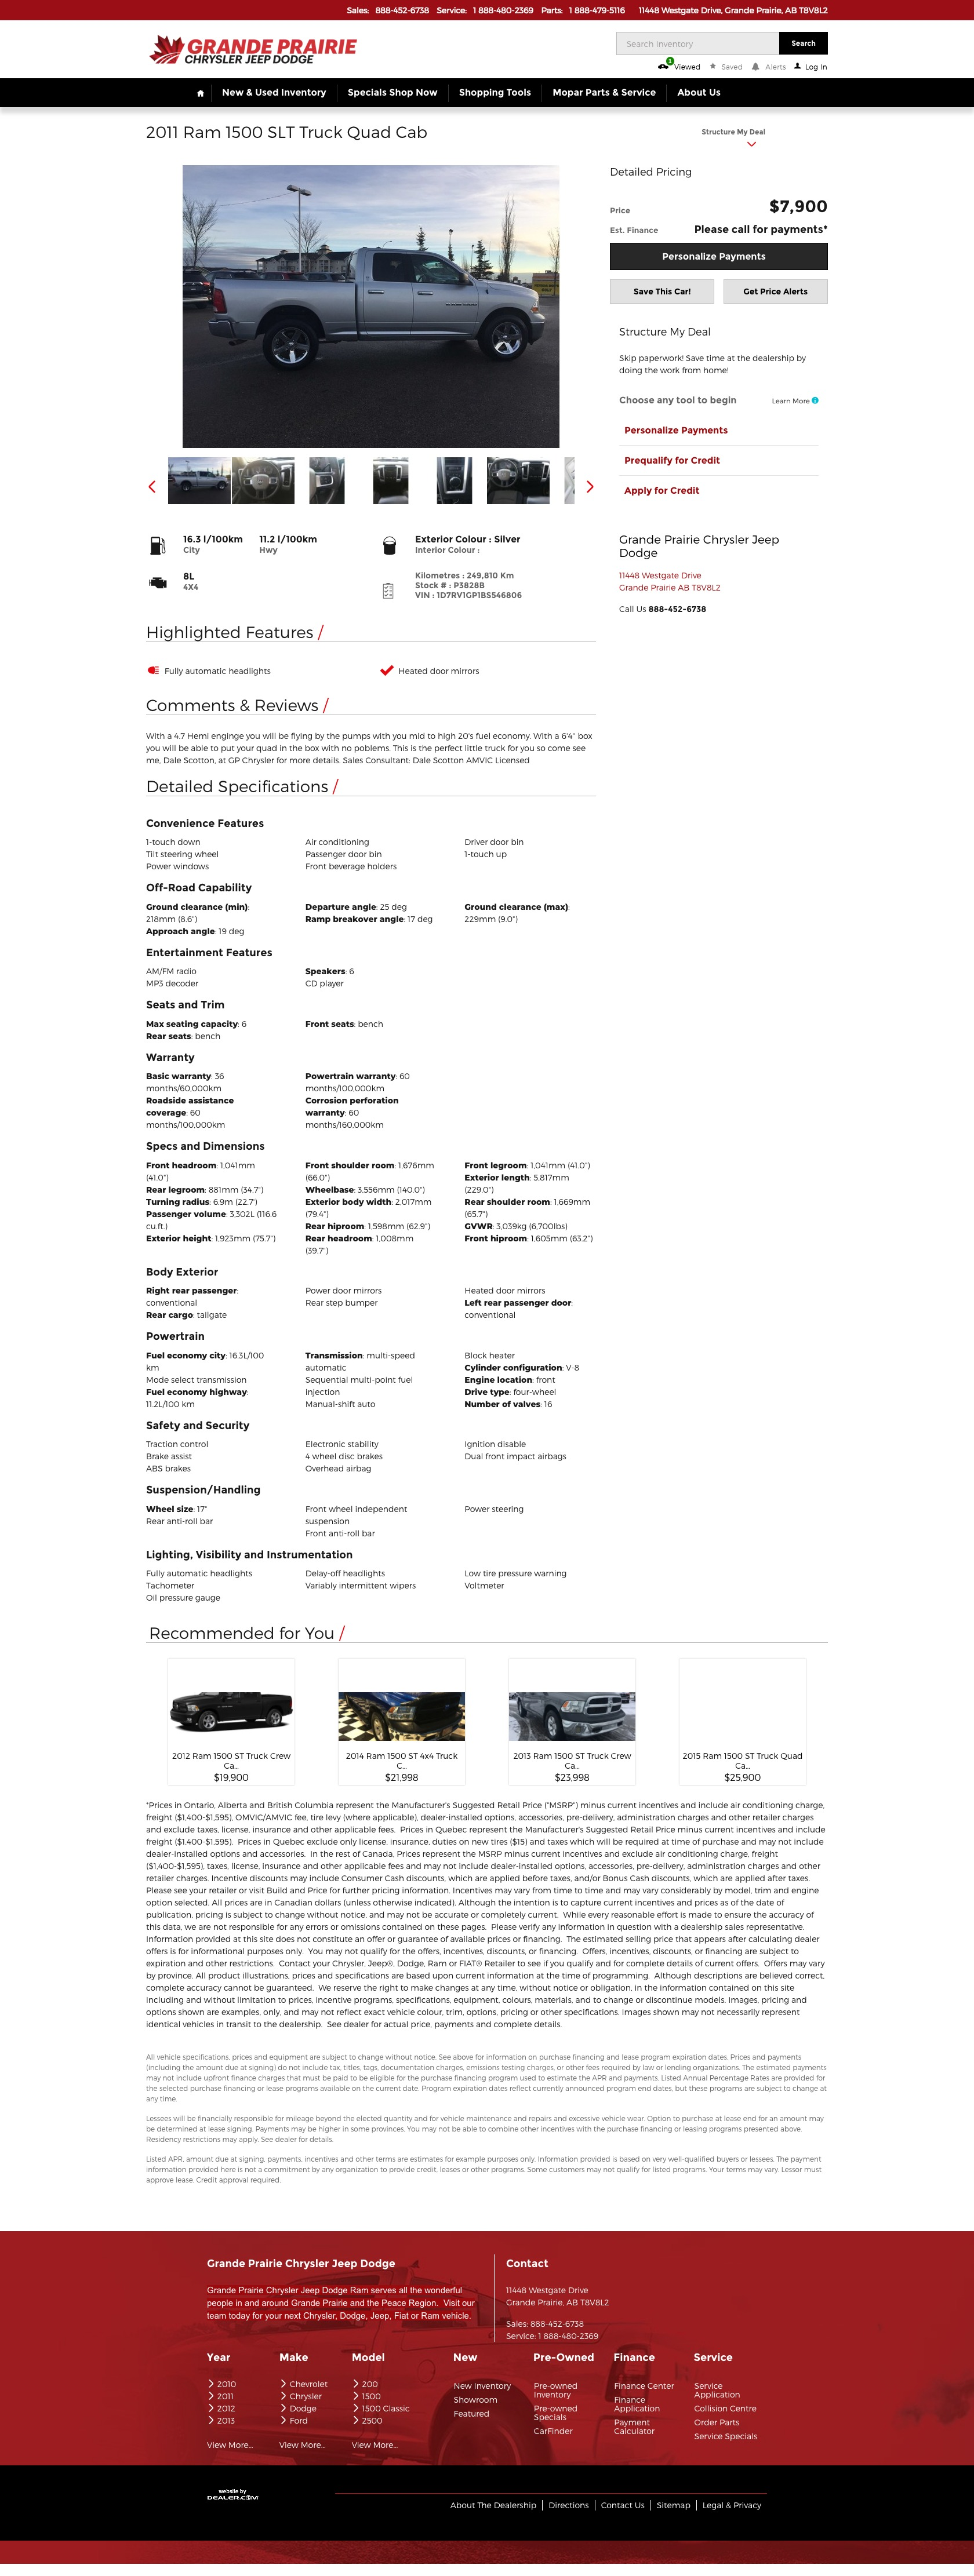car: (586, 481, 595, 493)
